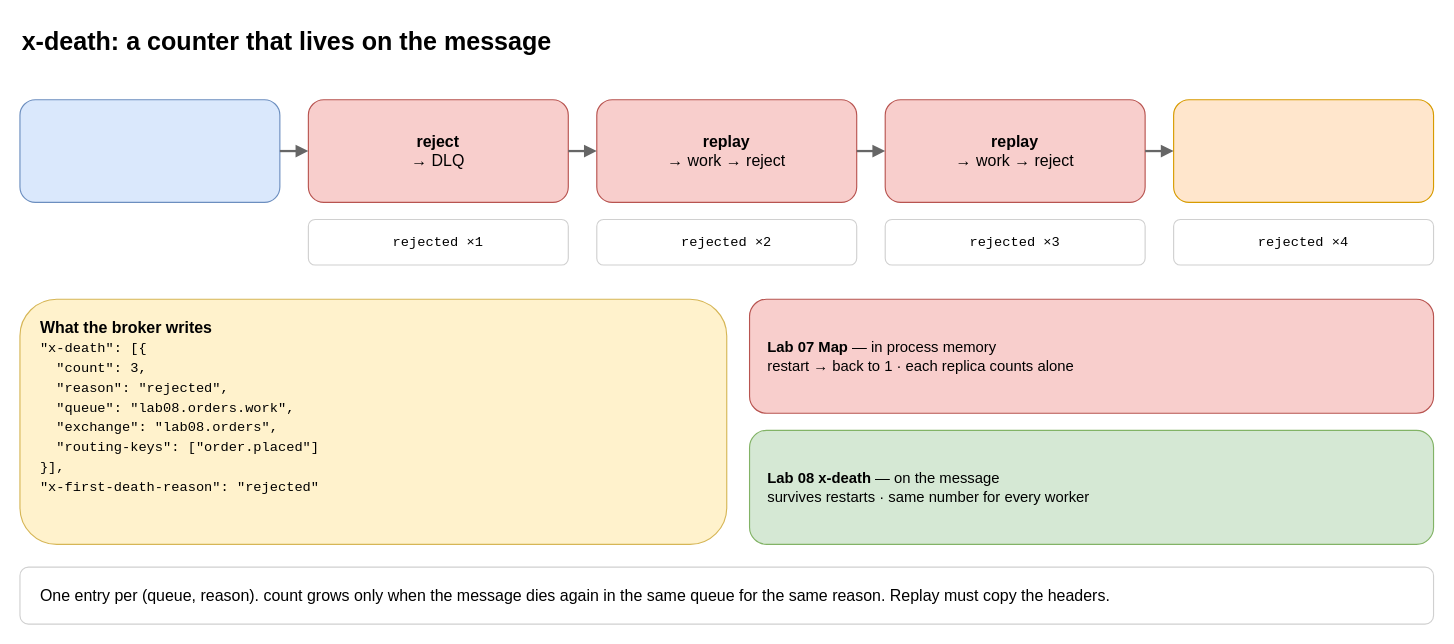
Image size: 1454x644. Some labels were removed from this diagram. The centre of each missing label's shape, as x and y in pixels:
publish #2 poison: [149,150]
restart the app replay → reject: [1303,150]
